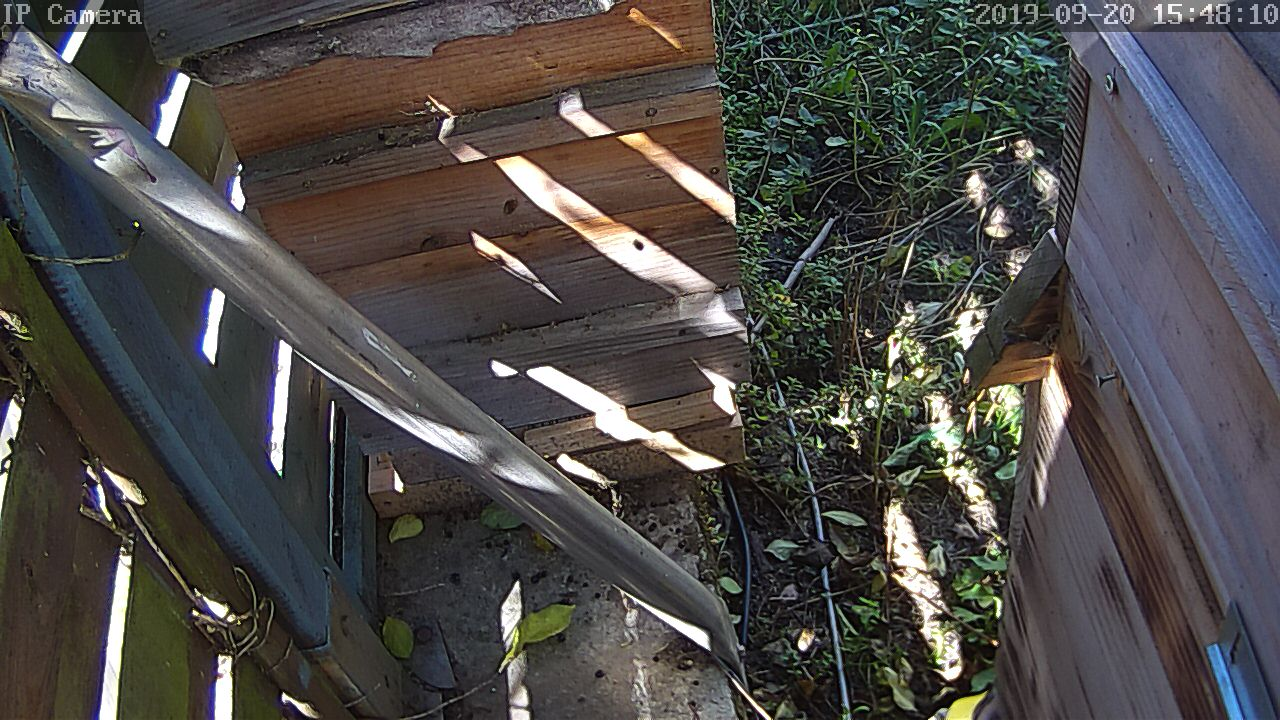hornet: (17, 4, 1253, 720)
